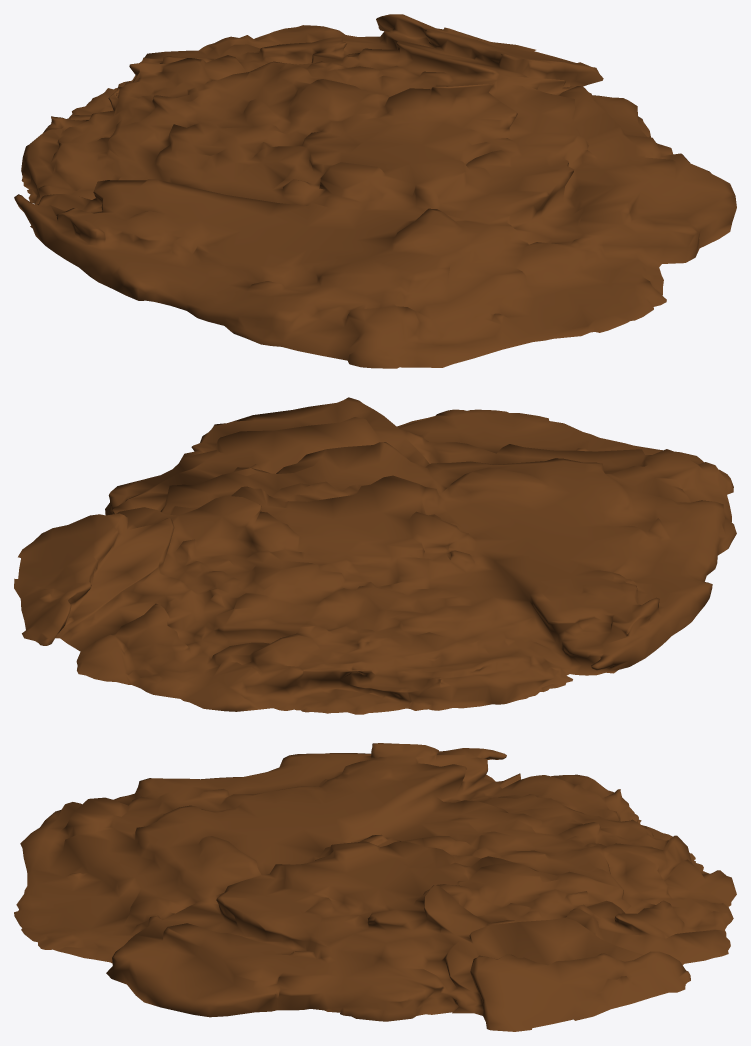
The model's file is MSH_Rocks_Flat_06.FBX.
3 renders of one model, top to bottom at view 1: azimuth 30°, elevation 25°; view 2: azimuth 150°, elevation 25°; view 3: azimuth 270°, elevation 25°, orthographic. The views are drawn at different scales.
Parts seen in each view (by area): view 1: MESH_LOD0; view 2: MESH_LOD0; view 3: MESH_LOD0.
Part boxes in pixels (x1=…): MESH_LOD0: x1=14, y1=14, x2=736, y2=368; MESH_LOD0: x1=14, y1=397, x2=736, y2=714; MESH_LOD0: x1=14, y1=743, x2=736, y2=1031.
Size of what is drawn, in the model's own units: 135 by 13.48 by 155.
